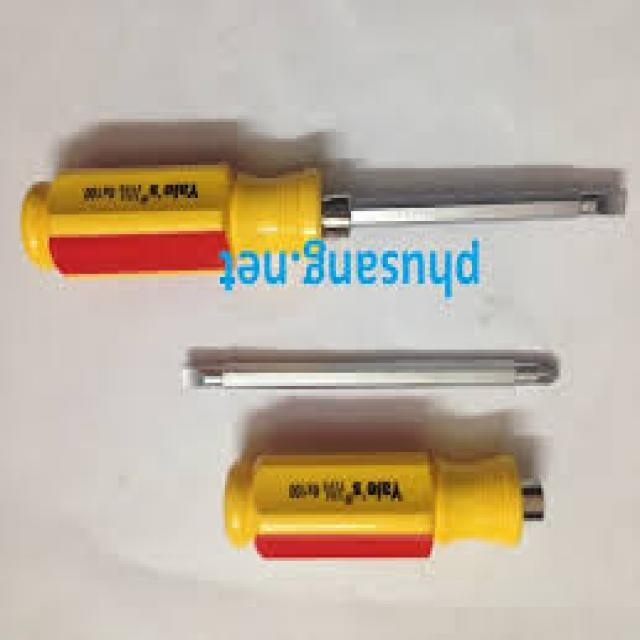screwdriver: (26, 155, 634, 287)
